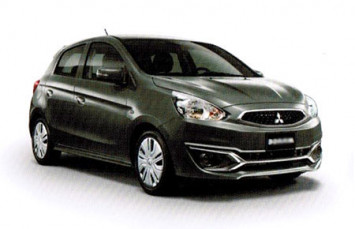sedan: (27, 31, 324, 197)
